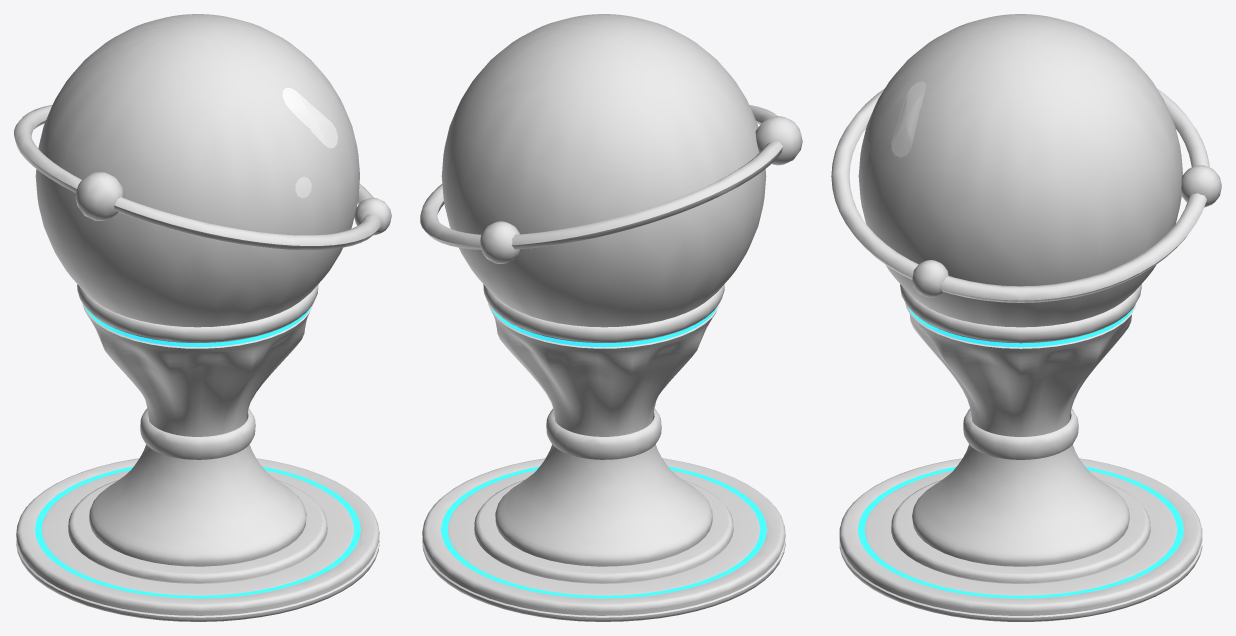
File: Hub_CleanCentre.fbx
3 renders of one model, left to right at view 1: azimuth 30°, elevation 25°; view 2: azimuth 150°, elevation 25°; view 3: azimuth 270°, elevation 25°, orthographic.
Visible parts, largest first — view 1: CleanCentre_Glass, CleanCentre_Body, CleanCentre_Ring, CleanCentre_Glow, CleanCentre_Shine; view 2: CleanCentre_Glass, CleanCentre_Body, CleanCentre_Ring, CleanCentre_Glow; view 3: CleanCentre_Glass, CleanCentre_Body, CleanCentre_Ring, CleanCentre_Glow, CleanCentre_Shine.
Part boxes in pixels (x1,y1,x2,y2): CleanCentre_Glass: (35,14,359,327); CleanCentre_Body: (16,284,379,621); CleanCentre_Ring: (14,105,391,250); CleanCentre_Glow: (35,306,360,598); CleanCentre_Shine: (282,88,337,198); CleanCentre_Glass: (441,14,766,327); CleanCentre_Body: (422,284,785,621); CleanCentre_Ring: (420,105,802,263); CleanCentre_Glow: (441,306,766,598); CleanCentre_Glass: (858,14,1182,327); CleanCentre_Body: (839,284,1202,621); CleanCentre_Ring: (831,88,1221,302); CleanCentre_Glow: (858,306,1183,598); CleanCentre_Shine: (863,81,926,162).
Bounding box in the file's own units: 28.07 × 44 × 30.06.
